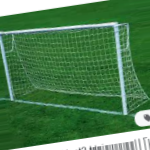goals: (1, 20, 148, 115)
